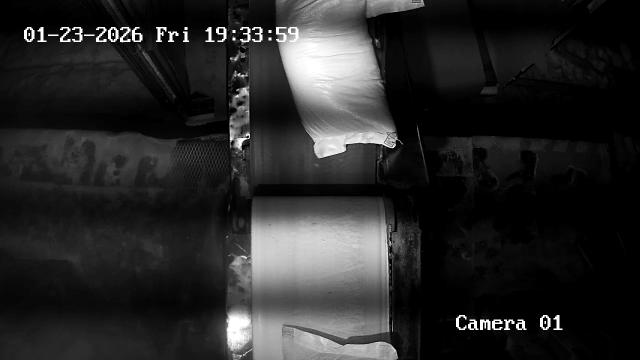bag: (276, 0, 399, 159), (284, 326, 398, 360)
